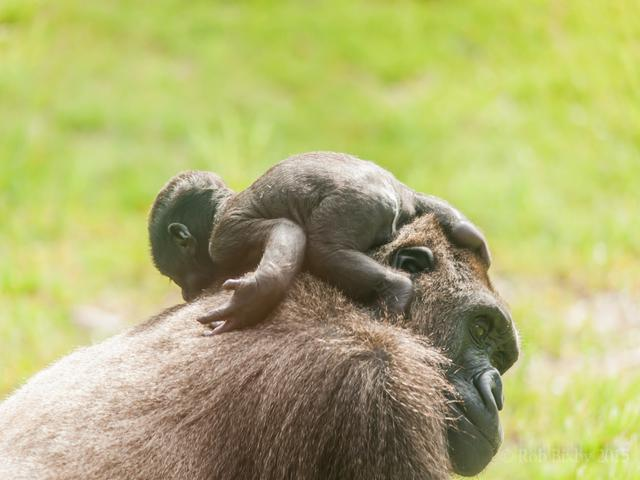monkey: (98, 214, 545, 480), (110, 83, 500, 329)
